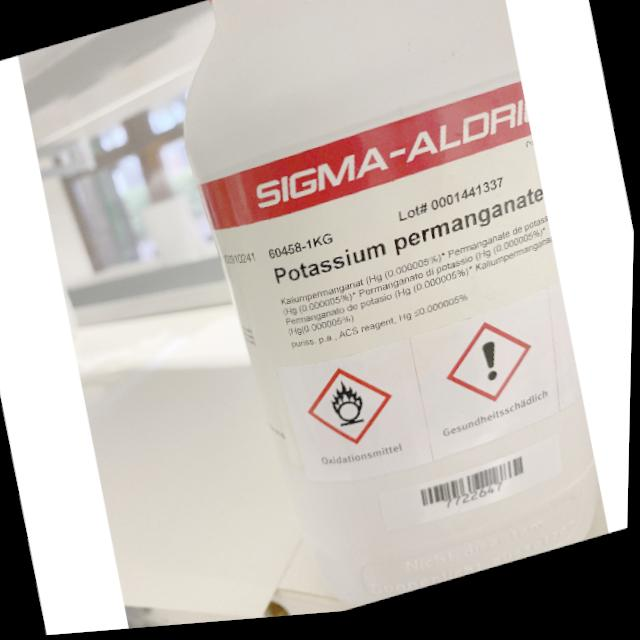health-ozone layer hazard: (481, 347, 504, 390)
oxidising: (329, 381, 368, 435)
